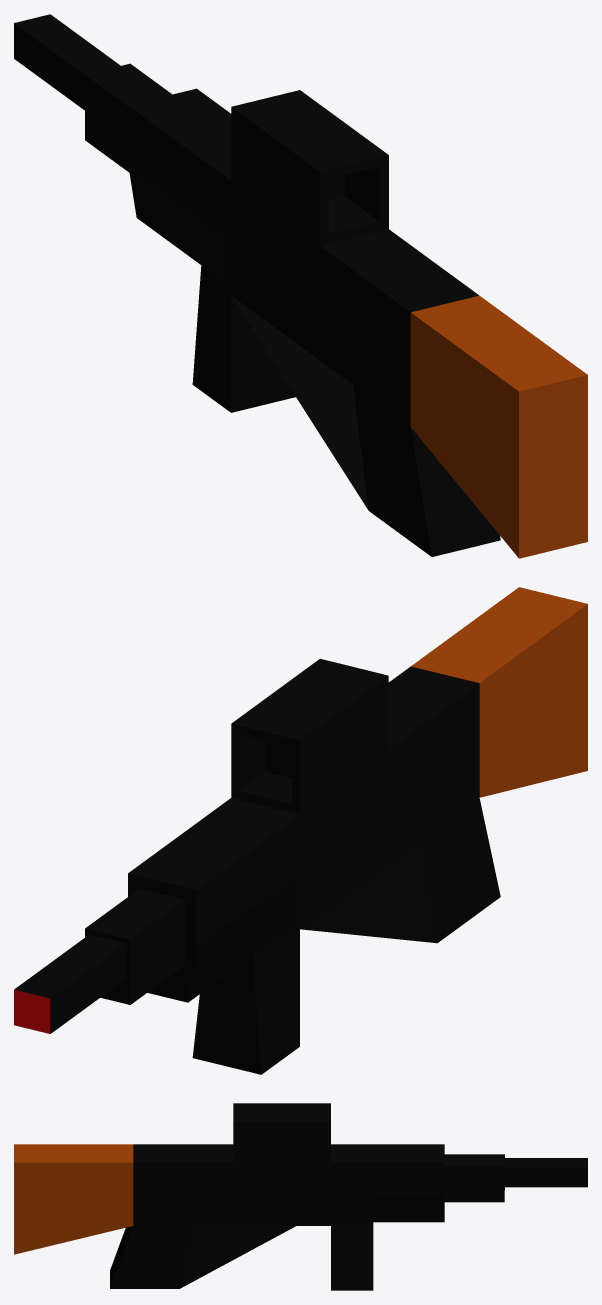
The model's file is sniper.fbx.
3 views of the same model, one above another, from view 1: azimuth 30°, elevation 25°; view 2: azimuth 150°, elevation 25°; view 3: azimuth 270°, elevation 25° (orthographic). The views are drawn at different scales.
Visible parts, largest first — view 1: Cube; view 2: Cube; view 3: Cube.
Part boxes in pixels (x1=…): Cube: x1=14, y1=14, x2=587, y2=558; Cube: x1=14, y1=587, x2=587, y2=1074; Cube: x1=14, y1=1103, x2=587, y2=1290.
Size of the model in its own units: 62.84 by 267 by 824.
